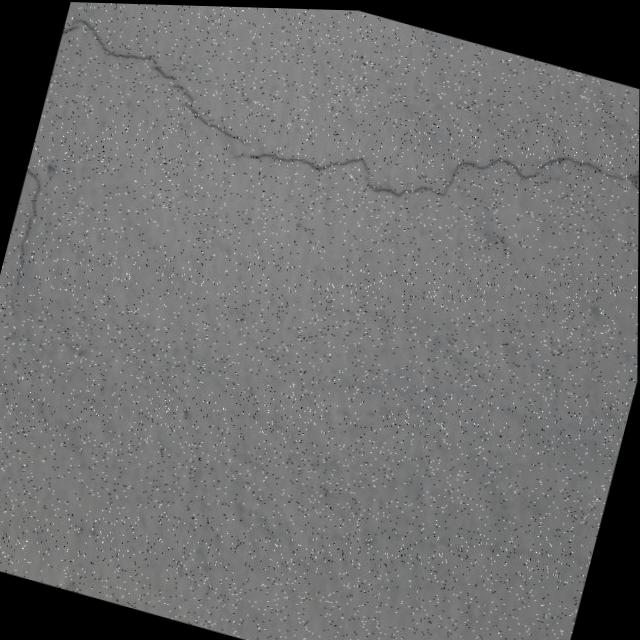Crack: (40, 1, 640, 280), (0, 162, 58, 333)
